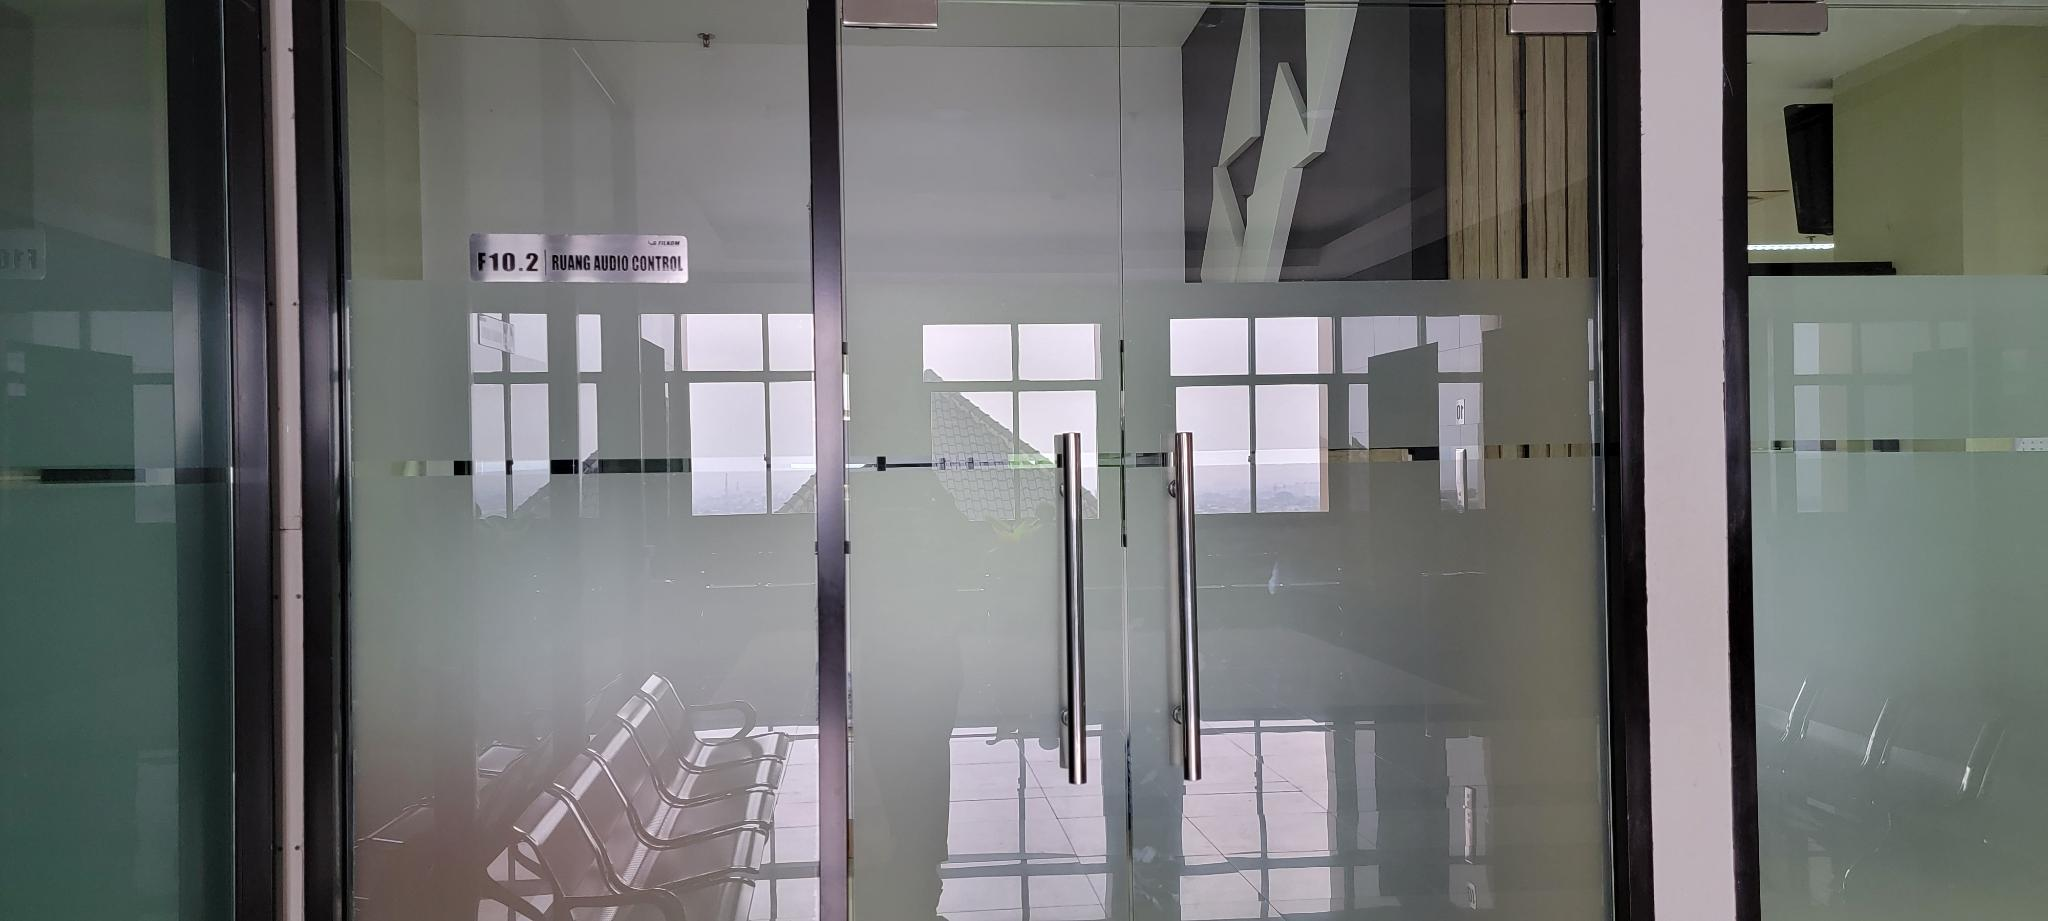plate: (466, 231, 692, 286)
